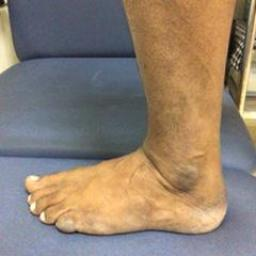Lateral View -Left Foot-: (18, 106, 234, 241)
